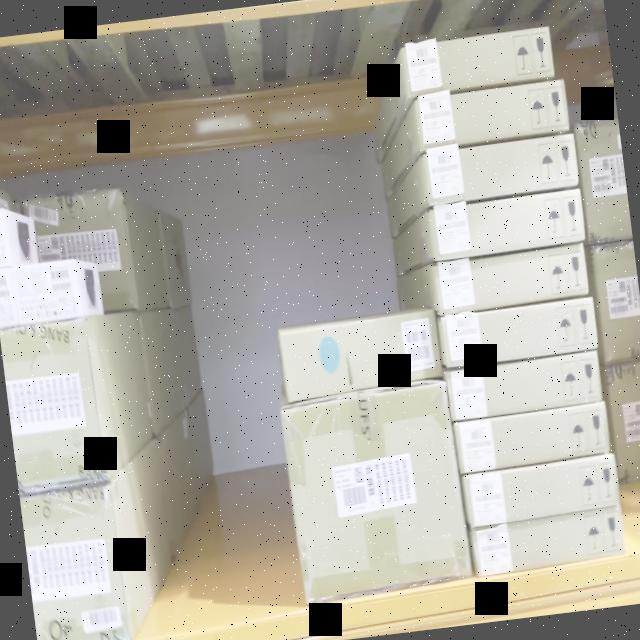box: (279, 382, 474, 600), (278, 308, 447, 402), (448, 350, 604, 424), (464, 454, 620, 527), (424, 130, 580, 202), (404, 22, 556, 94), (433, 188, 587, 259), (454, 402, 610, 472), (445, 296, 597, 366), (468, 508, 624, 576), (416, 78, 568, 146), (438, 242, 590, 310)
